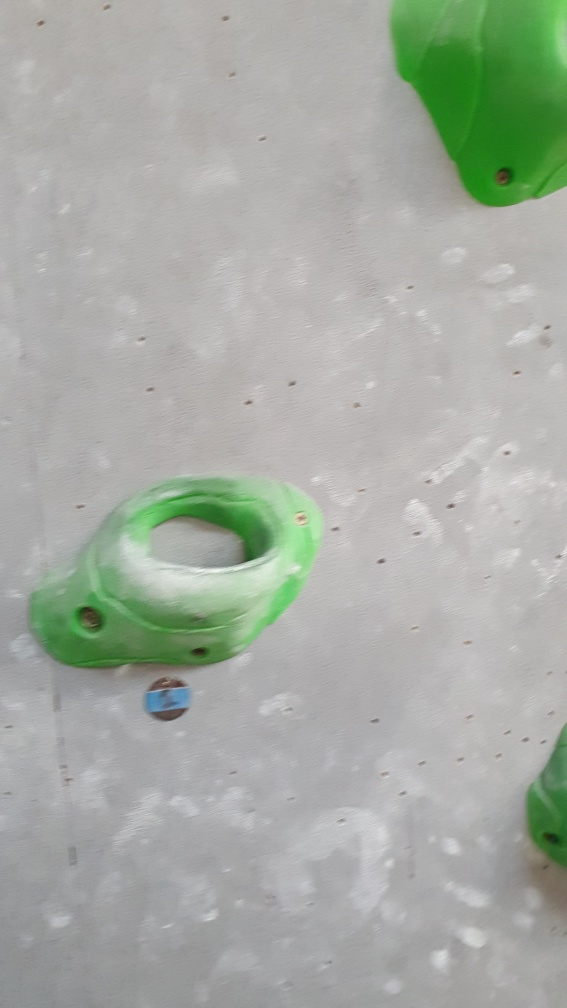Hand Start: (142, 673, 196, 724)
Pocket: (22, 466, 329, 679)
